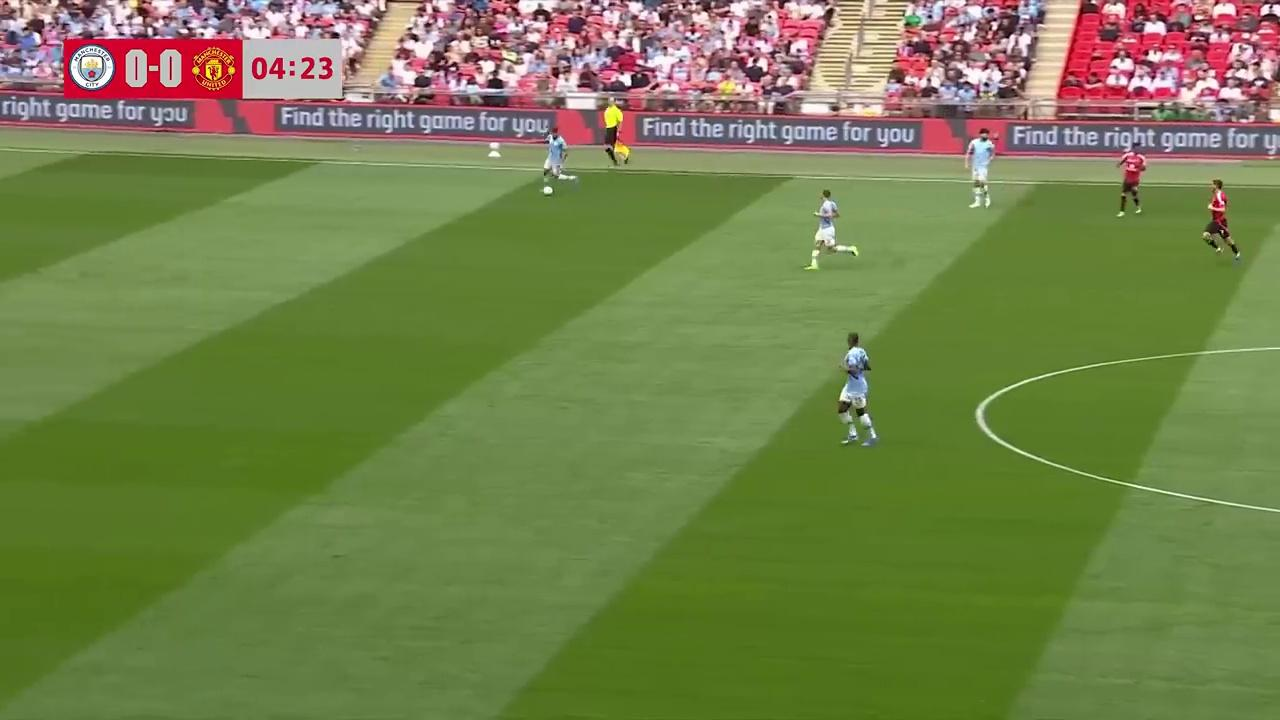ball: (542, 182, 554, 197)
player: (837, 333, 879, 447), (805, 189, 856, 270), (1203, 181, 1241, 261), (541, 134, 579, 195), (1115, 149, 1146, 217), (966, 131, 993, 208)
referee: (601, 104, 631, 169)
